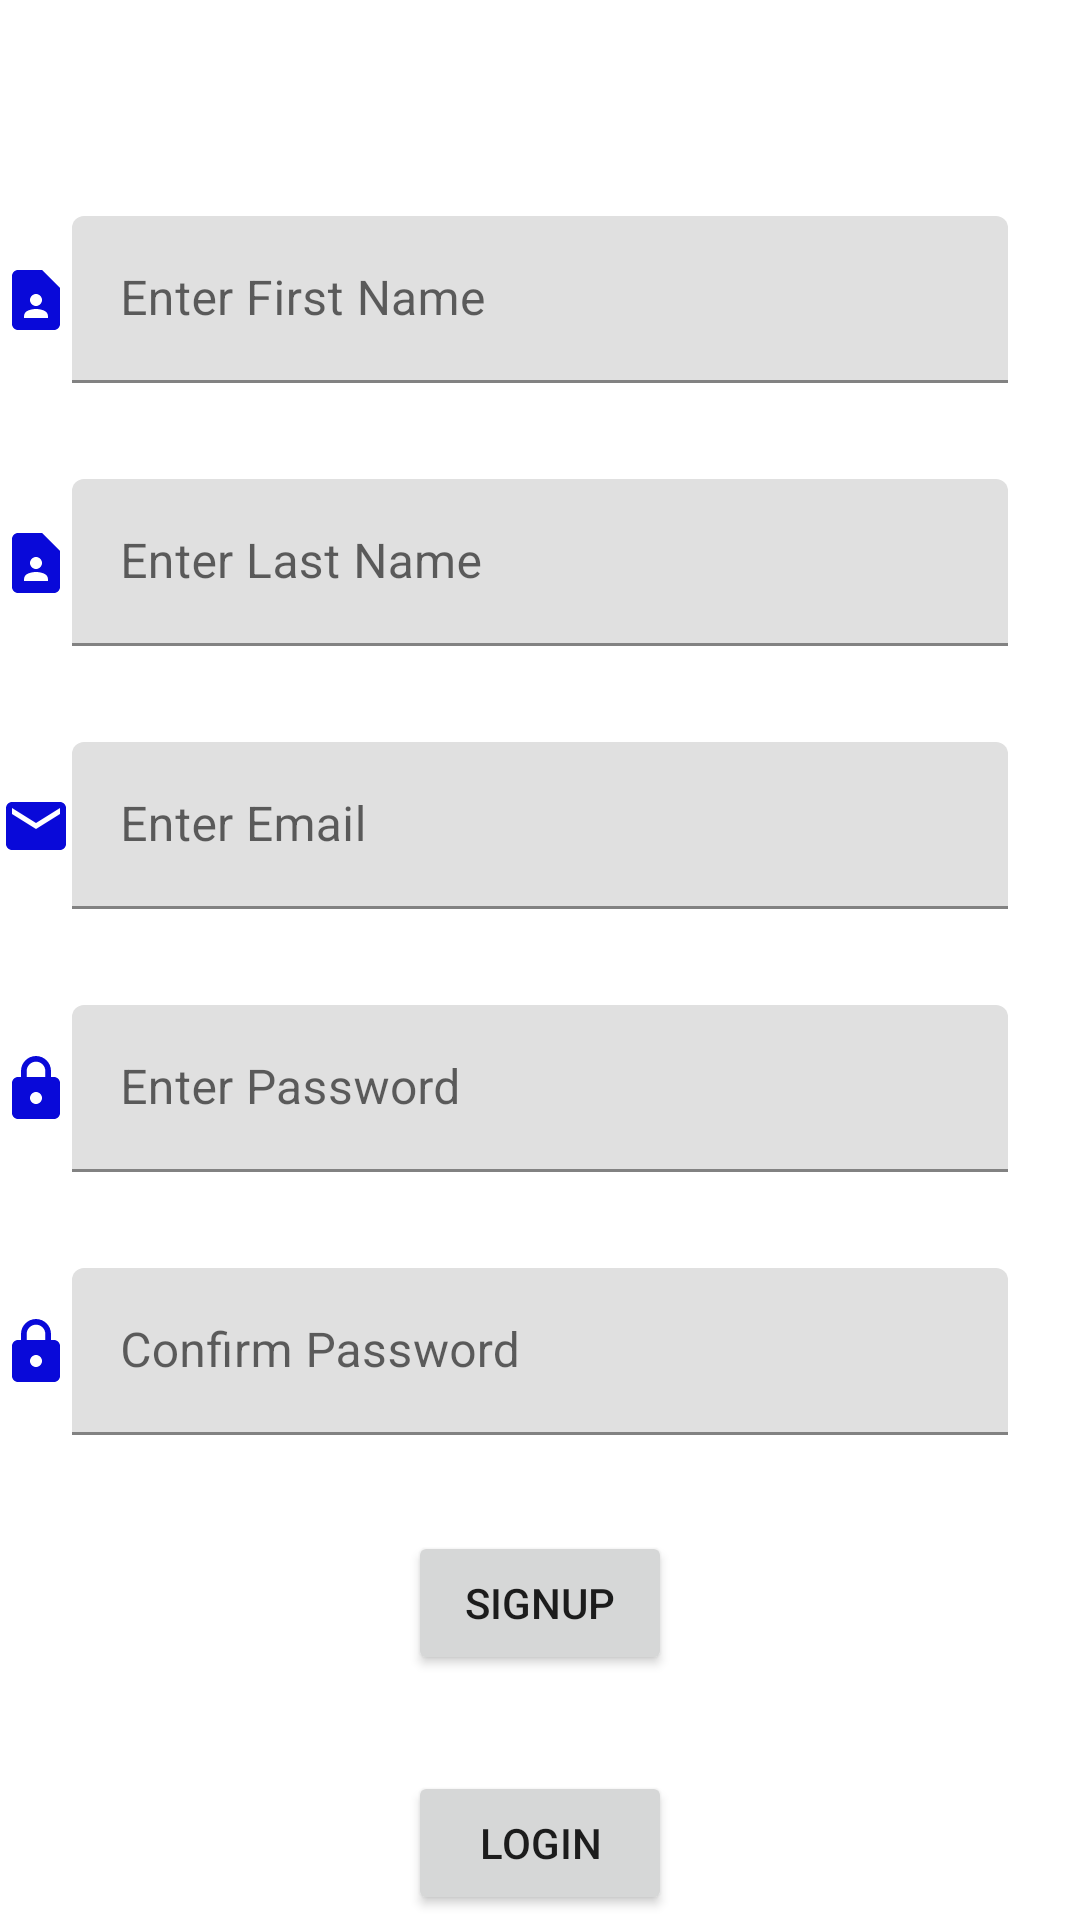

Named icons in this screenshot (1080px×1920px) and their bounding boxes, BBox(x1, y1, x2, y2):
contact page: BBox(12, 270, 60, 330), BBox(12, 533, 60, 593)
lock: BBox(12, 1056, 60, 1119), BBox(12, 1319, 60, 1382)
